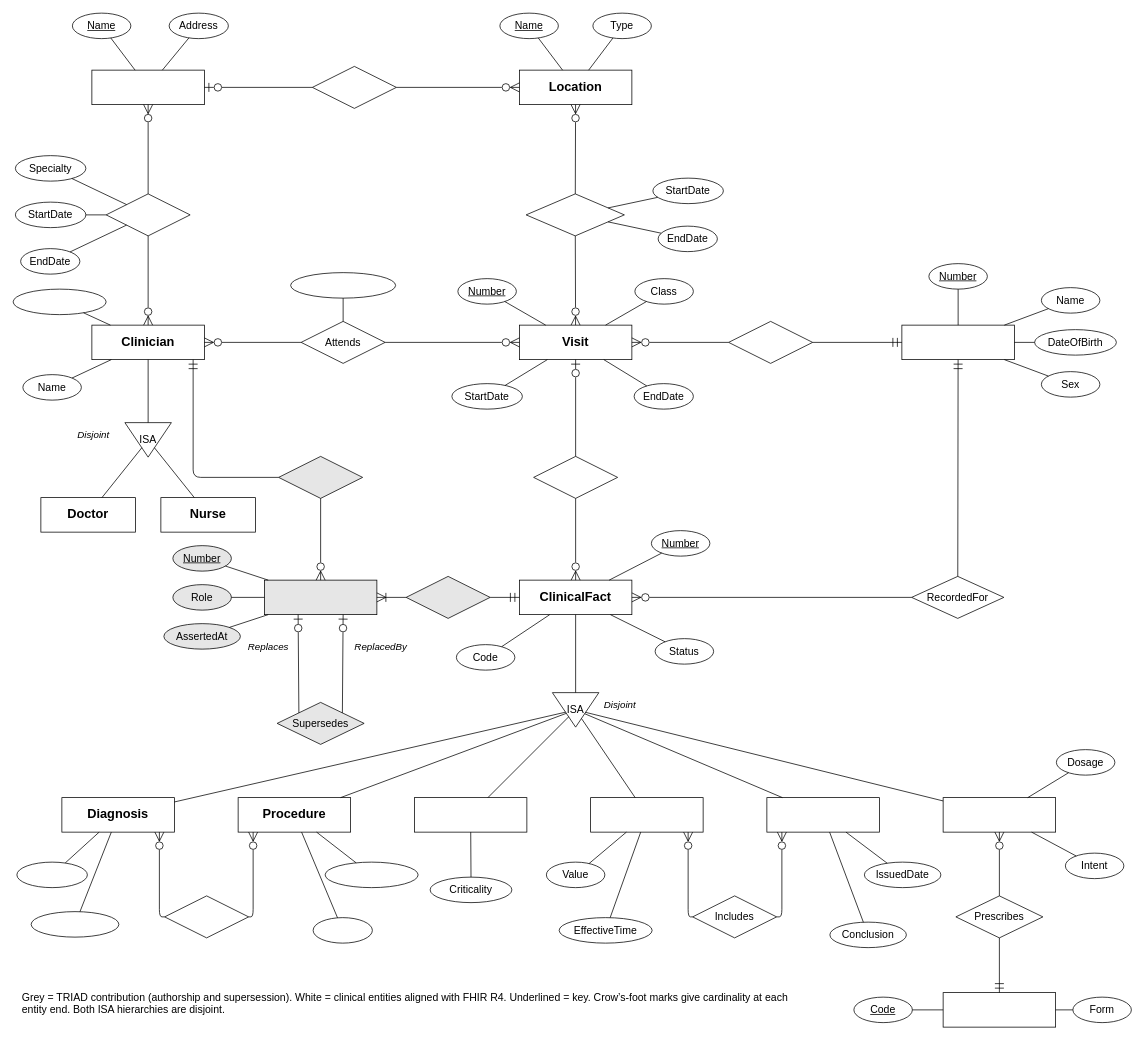
Image size: 1145x1044. Some labels were removed from this diagram. Here are the shapes that lost their labels. From the top down, the centre of each, then its label:
At point 147,87: "Hospital".
At point 354,87: "PartOf".
At point 147,214: "WorksAt".
At point 574,214: "TakesPlaceIn".
At point 59,301: "LicenseNumber".
At point 343,285: "ParticipantType".
At point 770,342: "Has".
At point 957,342: "Patient".
At point 320,477: "Asserts".
At point 575,477: "During".
At point 320,597: "Assertion".
At point 447,597: "About".
At point 470,814: "Allergy".
At point 646,814: "Observation".
At point 822,814: "LabReport".
At point 999,814: "Prescription".
At point 51,874: "OnsetDate".
At point 371,874: "PerformedDate".
At point 74,924: "Verification".
At point 206,916: "ReasonFor".
At point 342,930: "Outcome".
At point 999,1009: "Medication".
